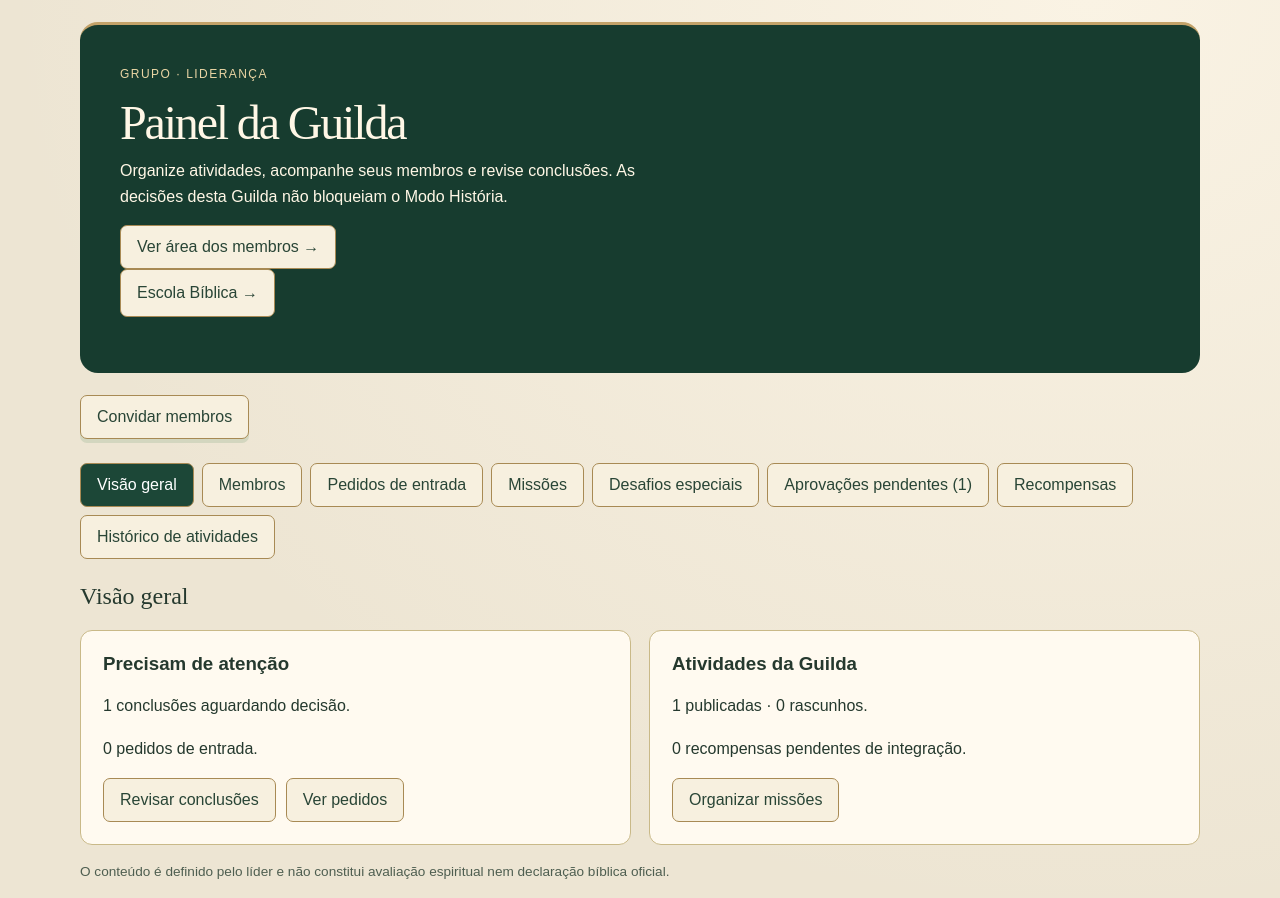
rejection requires guidance and approval is announced as reward pending
The width and height of the screenshot is (1280, 898).
Check: the heading "Painel da Guilda" is shown, box left=120, top=96, right=405, bottom=149
Click the button "Aprovações pendentes (1)".
click(878, 485)  # box left=767, top=463, right=989, bottom=507
(page scrolled)
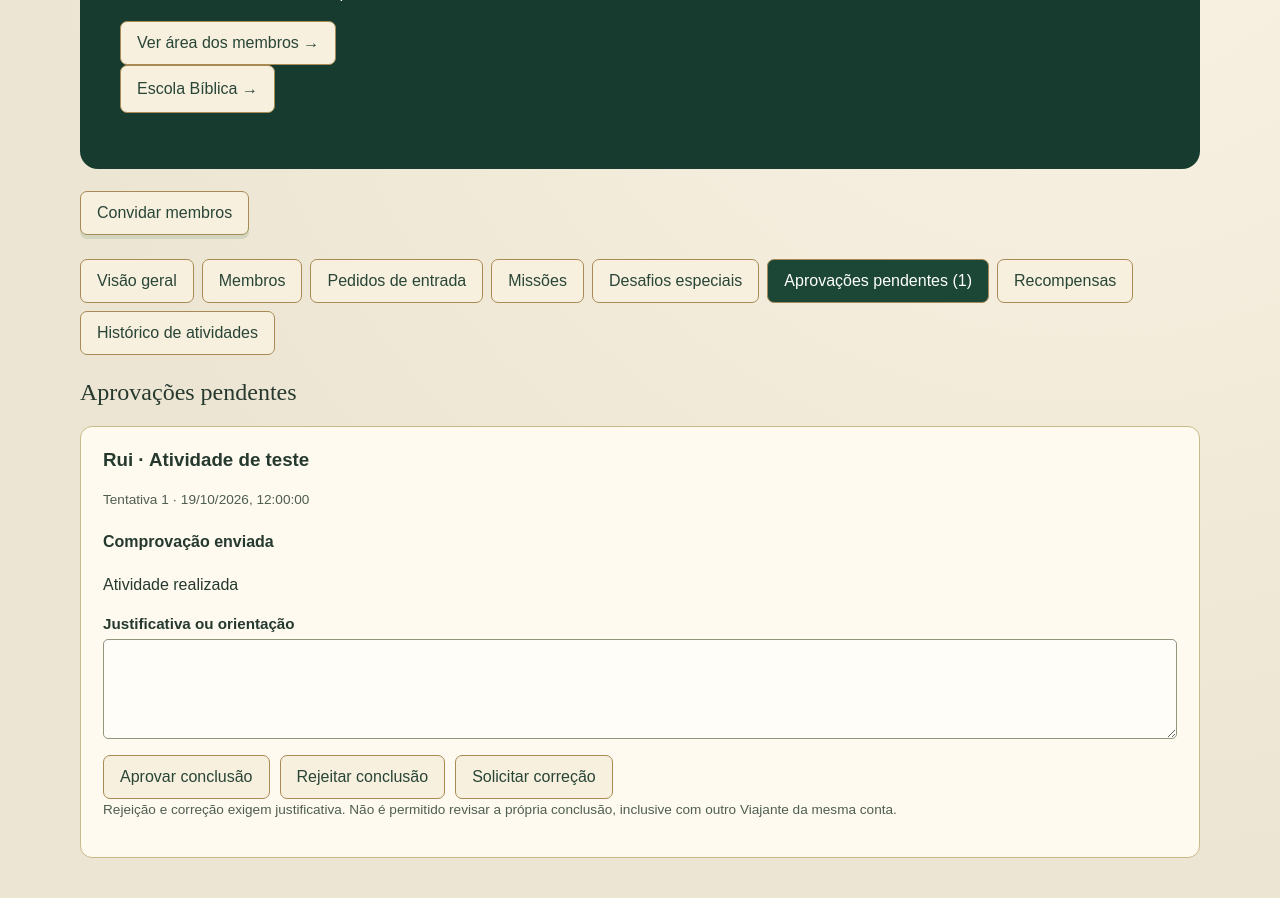
Click the button "Rejeitar conclusão".
click(362, 777)  # box left=280, top=755, right=445, bottom=799
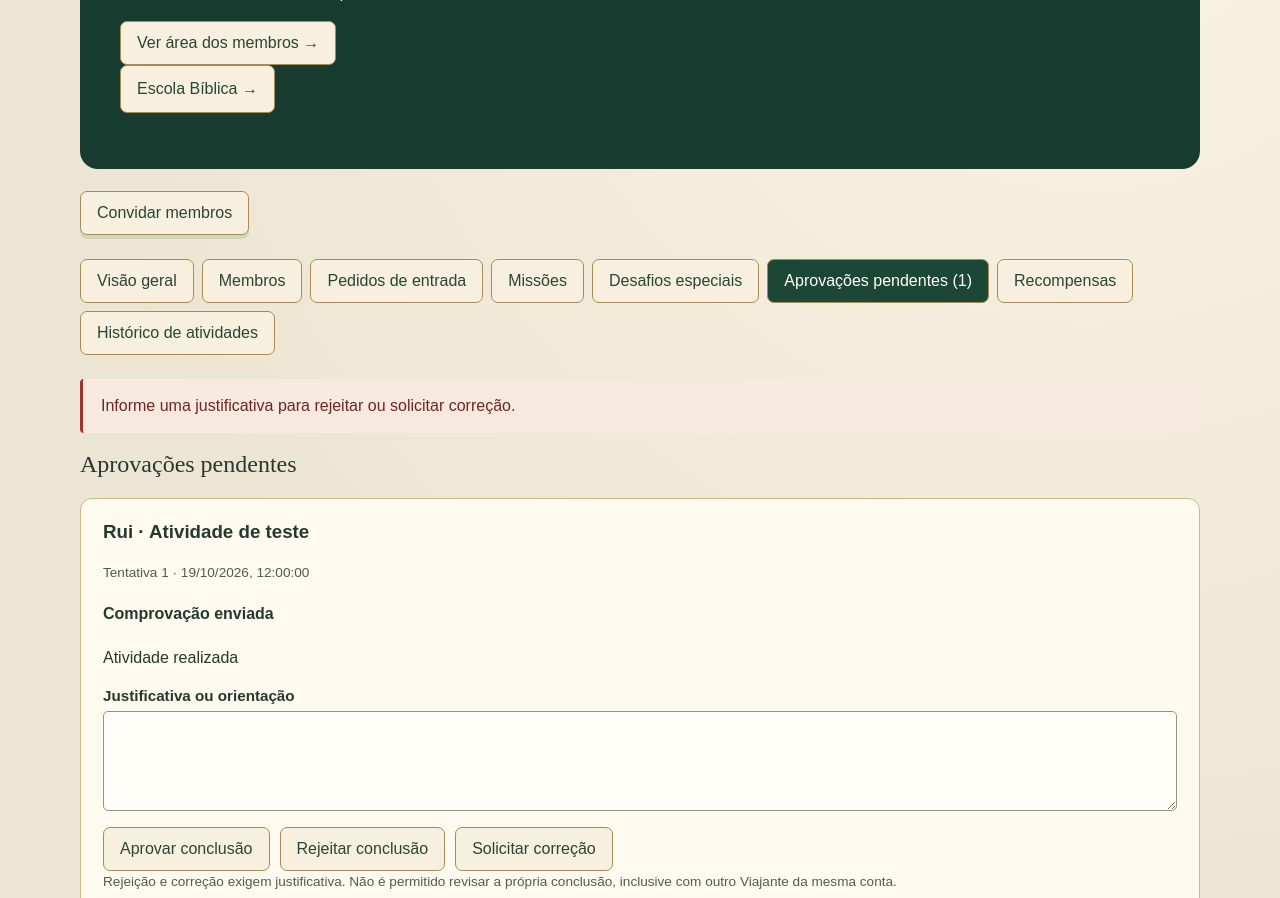
Check: the message shows "justificativa", box left=101, top=397, right=515, bottom=414
Click the button "Aprovar conclusão".
click(186, 849)  # box left=103, top=827, right=270, bottom=871
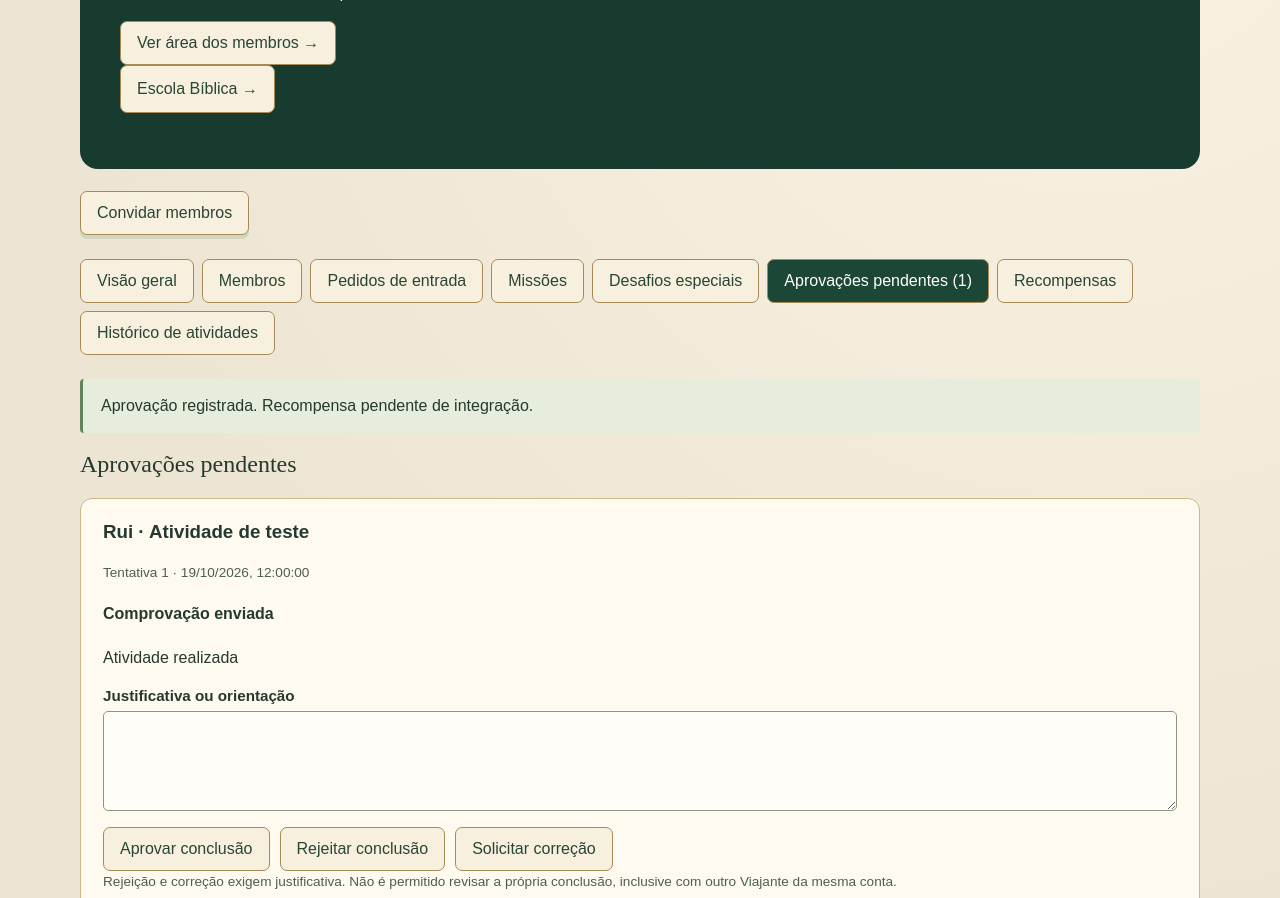
Check: the message shows "Recompensa pendente", box left=101, top=397, right=533, bottom=414
